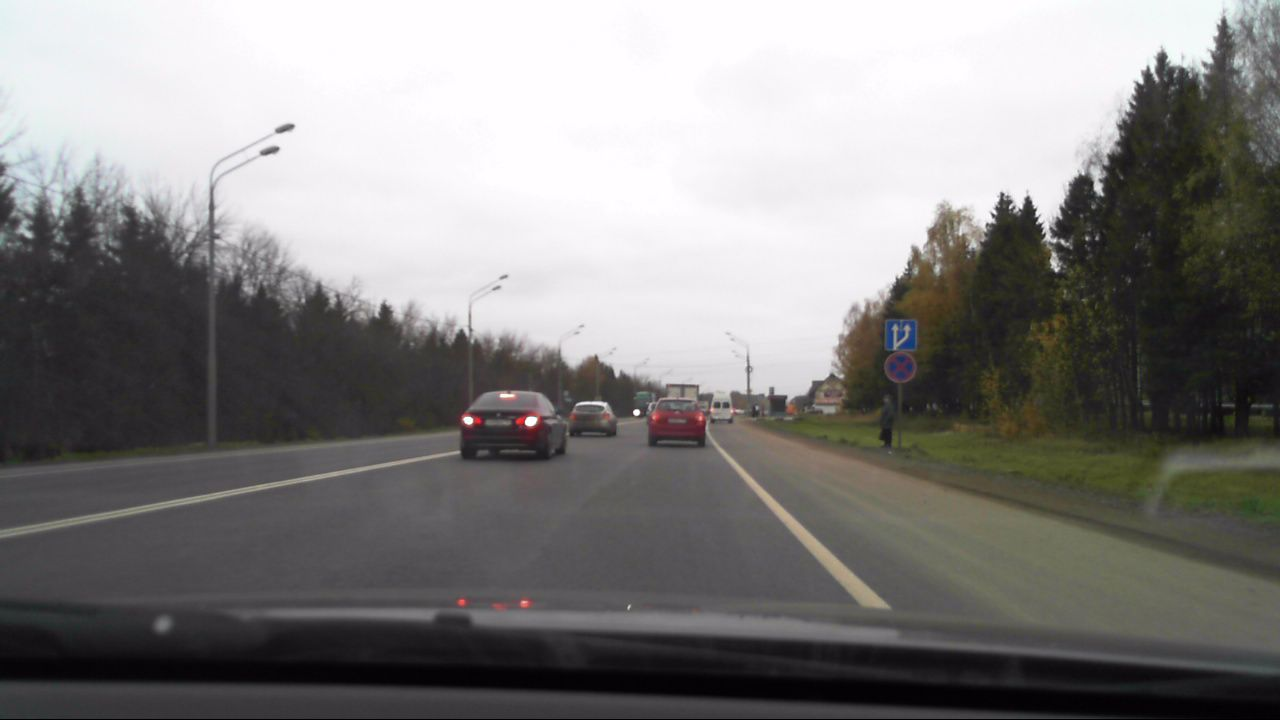No Parking: (883, 351, 919, 384)
